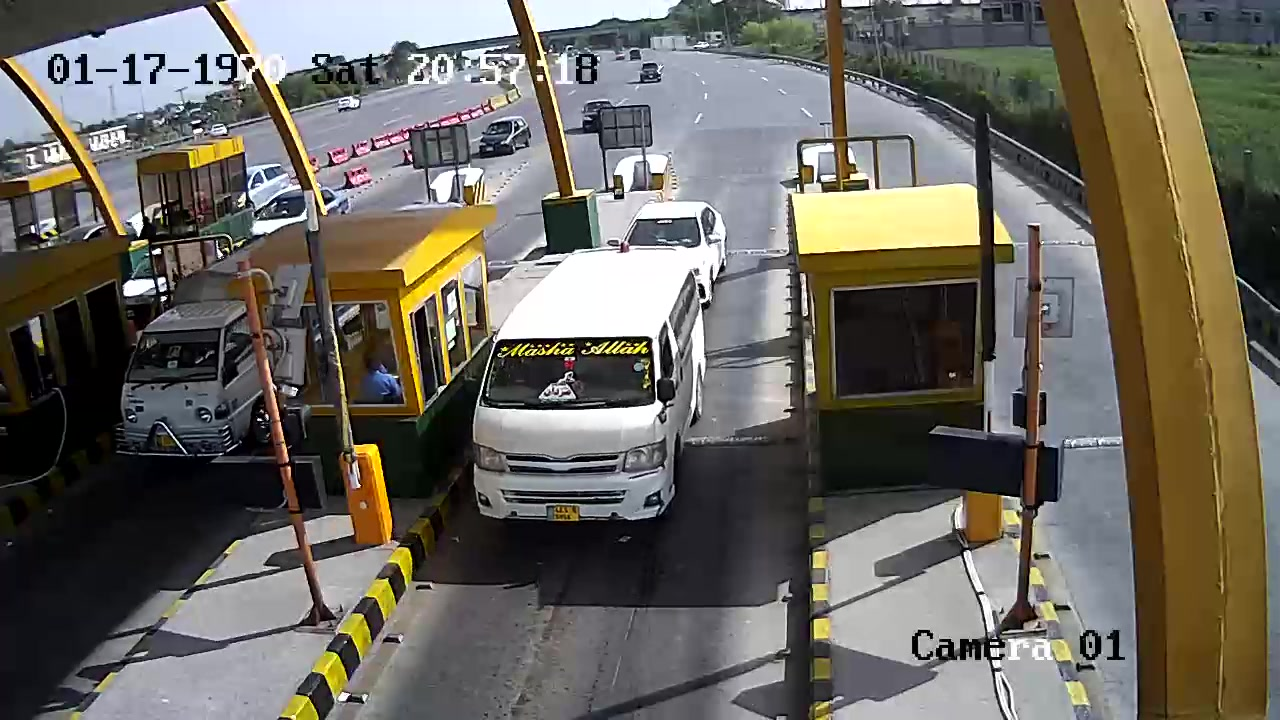F3: (471, 245, 715, 529)
